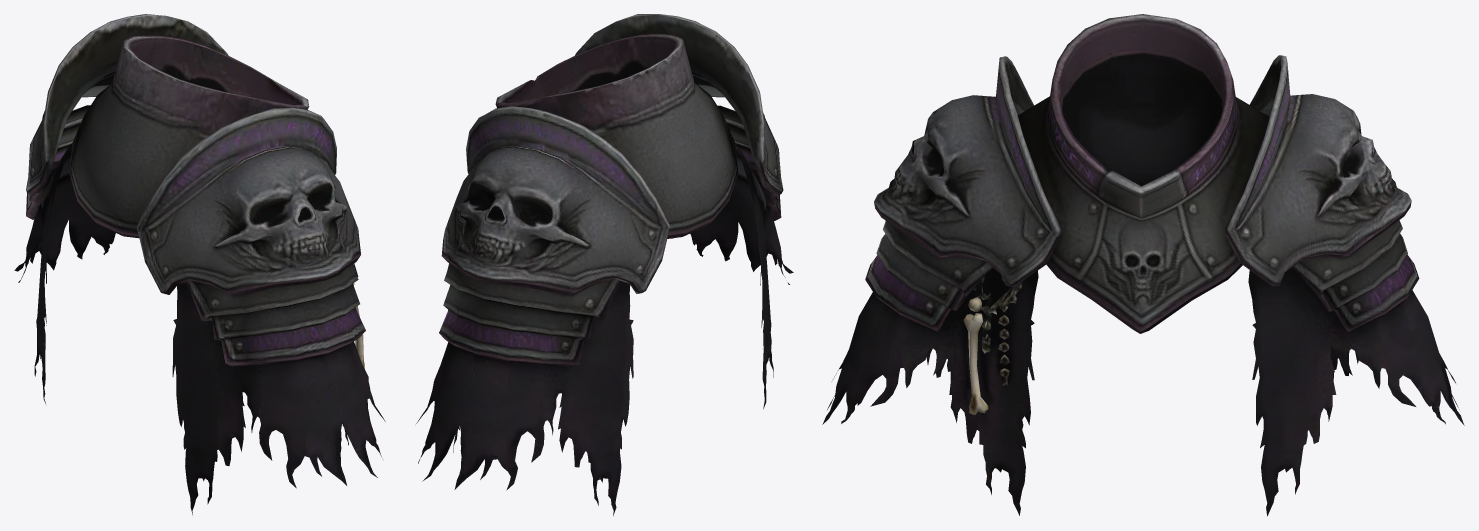
Rendered from necro_mantle_gravecaller.glb.
The picture shows the model from 3 angles, left to right: view 1: azimuth 30°, elevation 25°; view 2: azimuth 150°, elevation 25°; view 3: azimuth 270°, elevation 25°; orthographic projection. The views are drawn at different scales.
Parts seen in each view (by area): view 1: tripo_node_14fb8dde-44c3-402d-8483-fbd222caa5d8; view 2: tripo_node_14fb8dde-44c3-402d-8483-fbd222caa5d8; view 3: tripo_node_14fb8dde-44c3-402d-8483-fbd222caa5d8.
Part boxes in pixels (x1,y1,x2,y2): tripo_node_14fb8dde-44c3-402d-8483-fbd222caa5d8: (14, 14, 385, 514); tripo_node_14fb8dde-44c3-402d-8483-fbd222caa5d8: (416, 14, 793, 515); tripo_node_14fb8dde-44c3-402d-8483-fbd222caa5d8: (822, 14, 1464, 516).
Size of the model in its own units: 0.4356 by 0.7402 by 0.998.
1 material, 1 textured.
